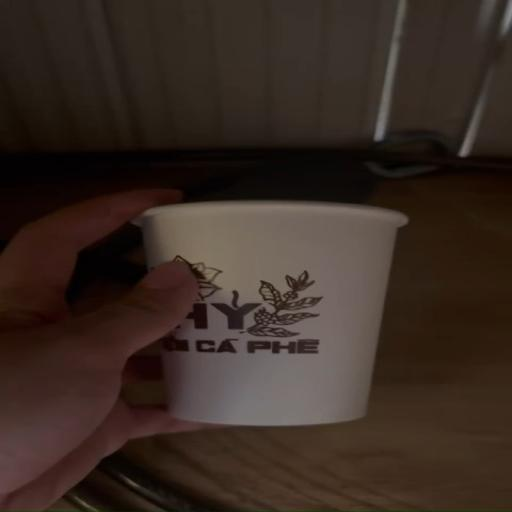Ly_giay: (134, 201, 406, 425)
